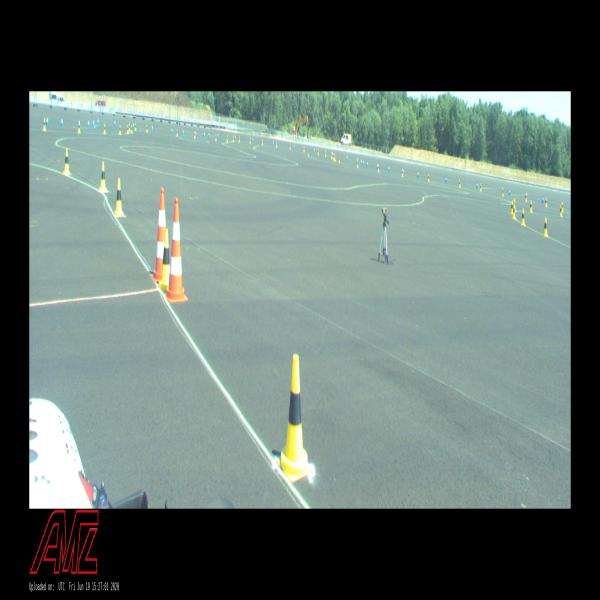blue_cone: (46, 116, 49, 126), (78, 119, 81, 128), (62, 117, 64, 126), (88, 119, 90, 128), (417, 170, 419, 179), (542, 195, 544, 203), (376, 162, 378, 170), (356, 156, 358, 164), (402, 167, 404, 175), (445, 176, 447, 183), (476, 182, 478, 189), (366, 160, 368, 167), (360, 158, 362, 165), (217, 132, 219, 139), (171, 128, 173, 134), (97, 118, 99, 124), (208, 132, 210, 138), (388, 166, 390, 172), (114, 120, 116, 126), (346, 154, 348, 160), (362, 160, 364, 166), (332, 151, 334, 157), (183, 128, 184, 136), (509, 188, 510, 196), (93, 119, 94, 127), (133, 121, 134, 129), (252, 138, 254, 142), (204, 131, 205, 138), (152, 125, 153, 132), (235, 134, 236, 141), (196, 130, 197, 137), (273, 140, 274, 146), (294, 144, 295, 149), (314, 148, 315, 152)
large_orange_cone: (167, 198, 185, 300), (154, 188, 166, 280)
yellow_cone: (281, 354, 308, 474), (159, 228, 170, 290), (114, 178, 124, 217), (99, 162, 107, 192), (63, 148, 70, 175), (543, 217, 548, 237), (521, 208, 525, 226), (512, 204, 516, 219), (77, 121, 80, 133), (43, 119, 46, 130), (559, 206, 562, 216), (511, 199, 513, 214), (458, 180, 461, 188), (514, 199, 516, 211), (530, 201, 532, 212), (104, 124, 106, 134), (562, 202, 564, 212), (525, 193, 527, 202), (545, 198, 547, 206), (119, 126, 121, 134), (194, 131, 196, 139), (135, 123, 137, 131), (176, 129, 178, 136), (146, 125, 148, 132), (215, 134, 217, 141), (131, 125, 133, 132), (334, 154, 336, 160), (289, 144, 291, 149), (127, 125, 128, 134), (129, 123, 130, 132), (480, 183, 481, 191), (357, 160, 358, 168), (331, 151, 332, 159), (428, 174, 429, 182), (402, 169, 403, 177), (378, 164, 379, 172), (502, 189, 503, 196), (325, 150, 326, 157), (227, 135, 228, 142), (250, 138, 251, 144), (239, 136, 240, 142), (304, 146, 305, 152), (339, 156, 340, 162), (233, 136, 234, 142), (262, 140, 263, 146), (276, 142, 277, 148), (318, 148, 318, 154), (334, 152, 334, 160)
